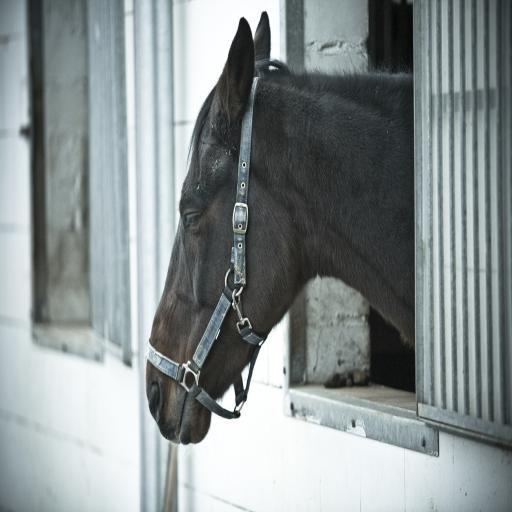Horse: (146, 13, 414, 449)
